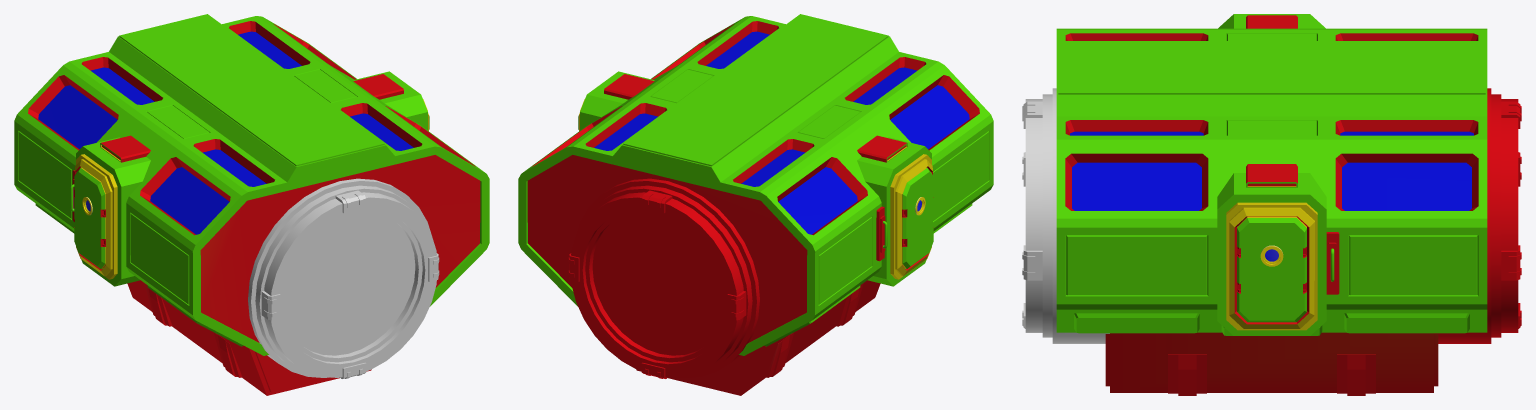
Rendered from KeepOnTruckin_crew.fbx.
3 renders of one model, left to right at view 1: azimuth 30°, elevation 25°; view 2: azimuth 150°, elevation 25°; view 3: azimuth 270°, elevation 25°, orthographic. The views are drawn at different scales.
Visible parts, largest first — view 1: Main Body, Hatch Tube Aft, Wheel Attach; view 2: Main Body, Hatch Tube Fore, Wheel Attach; view 3: Main Body, Hatch Tube Aft, Hatch Tube Fore, Wheel Attach.
Boxes of the visible parts, x1,y1,x2,y2 form: Main Body: (14,14,489,395); Hatch Tube Aft: (248,178,439,378); Wheel Attach: (144,283,242,377); Main Body: (518,14,993,395); Hatch Tube Fore: (568,178,759,378); Wheel Attach: (765,283,863,377); Main Body: (1056,14,1487,392); Hatch Tube Aft: (1022,88,1109,343); Hatch Tube Fore: (1434,88,1521,343); Wheel Attach: (1168,354,1375,395).
Size of the model in its own units: 261 by 186 by 284.
